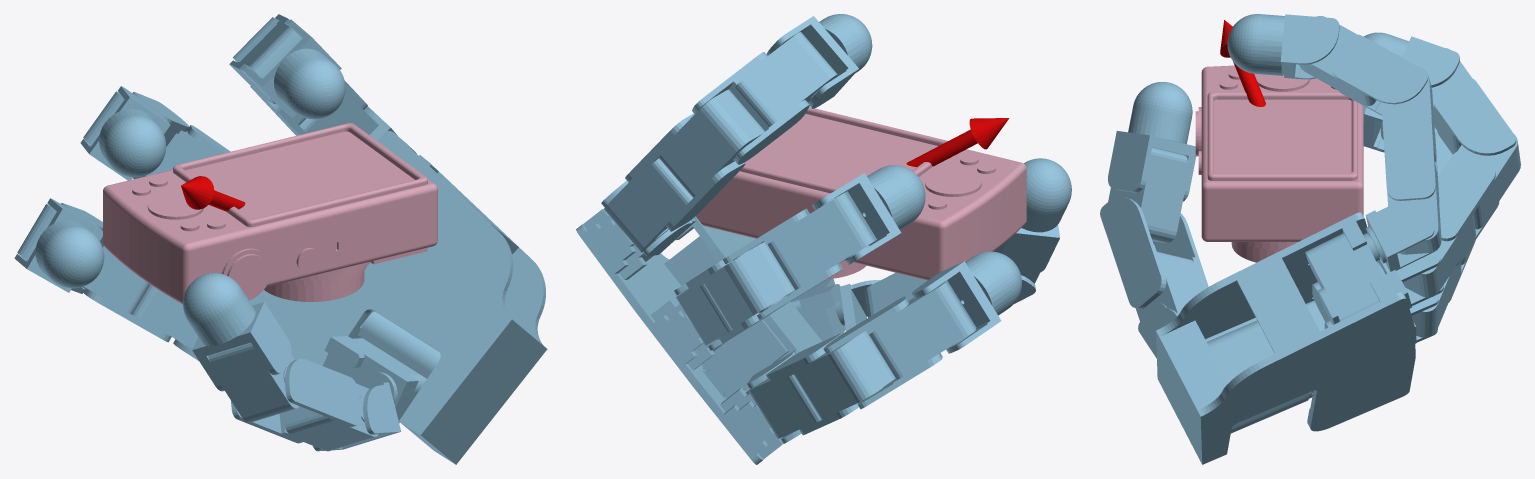
The picture shows the model from 3 angles, left to right: view 1: azimuth 30°, elevation 25°; view 2: azimuth 150°, elevation 25°; view 3: azimuth 270°, elevation 25°; orthographic projection. The views are drawn at different scales.
Parts seen in each view (by area): view 1: world, camera.stl; view 2: world, camera.stl; view 3: world, camera.stl.
Part boxes in pixels (x1=…): world: x1=14, y1=14, x2=547, y2=464; camera.stl: x1=103, y1=123, x2=437, y2=304; world: x1=576, y1=14, x2=1071, y2=464; camera.stl: x1=696, y1=107, x2=1026, y2=280; world: x1=1100, y1=14, x2=1520, y2=464; camera.stl: x1=1195, y1=65, x2=1363, y2=262.
Bounding box in the file's own units: 0.1979 × 0.1781 × 0.1682.
